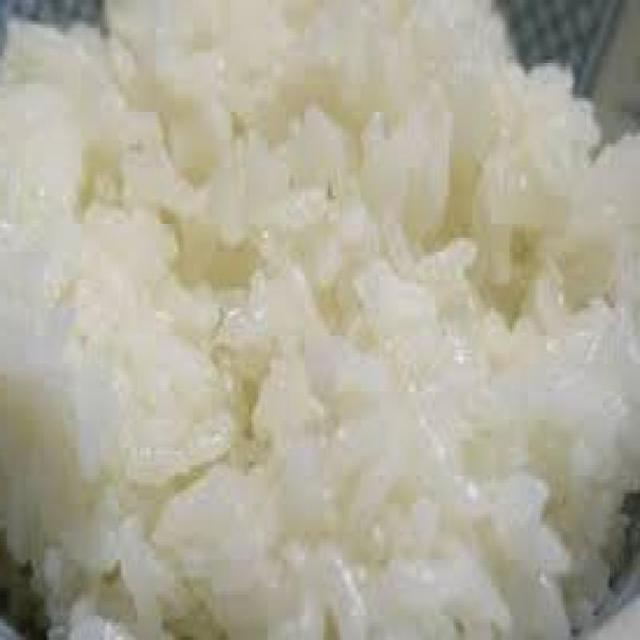Spinach: (158, 306, 274, 490), (441, 495, 568, 640), (57, 0, 202, 126)
